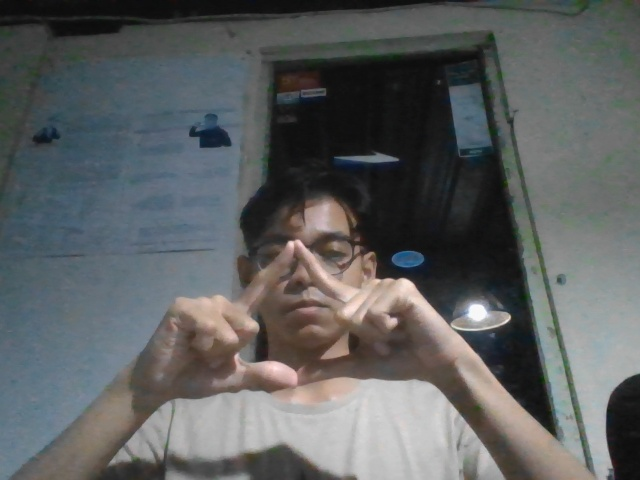A: (136, 234, 452, 404)
